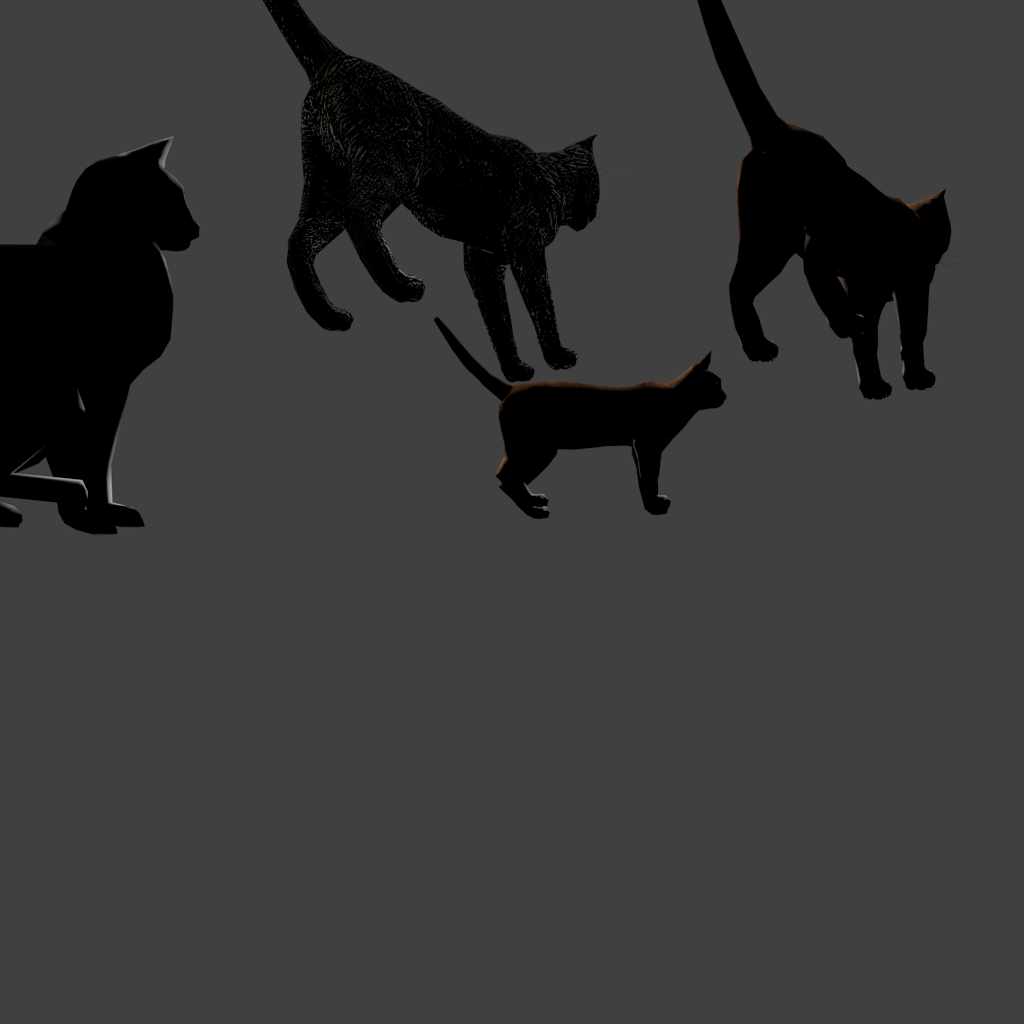Cat: (200, 0, 427, 383), (0, 136, 200, 400)
